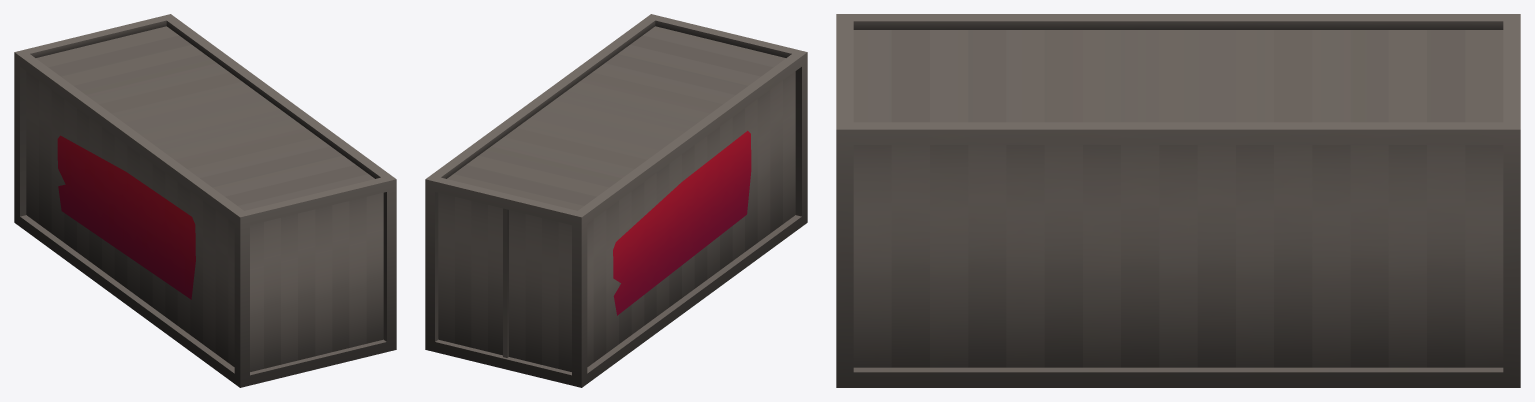
File: Container_1C.fbx
3 renders of one model, left to right at view 1: azimuth 30°, elevation 25°; view 2: azimuth 150°, elevation 25°; view 3: azimuth 270°, elevation 25°, orthographic. The views are drawn at different scales.
Visible parts, largest first — view 1: Container_1C_D; view 2: Container_1C_D; view 3: Container_1C_D.
Part boxes in pixels (x1,y1,x2,y2): Container_1C_D: [14, 14, 396, 387]; Container_1C_D: [425, 14, 807, 387]; Container_1C_D: [836, 14, 1520, 387].
Bounding box in the file's own units: 2.4 × 2.5 × 6.
